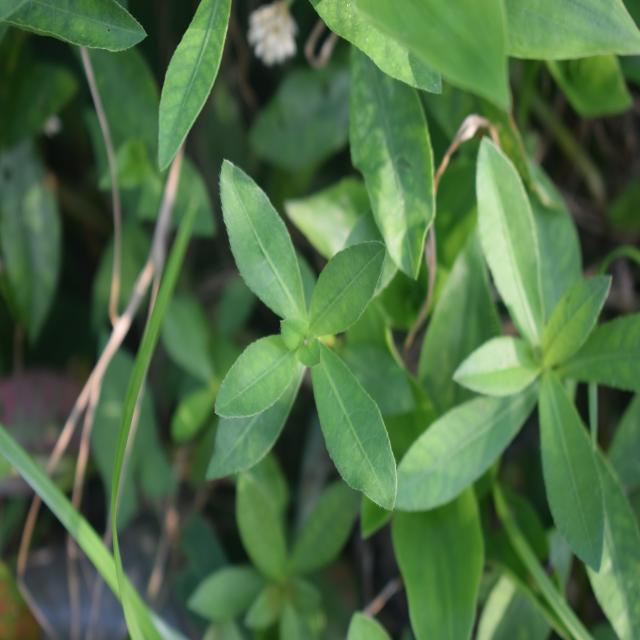Alligatorweed: (176, 142, 440, 526), (424, 139, 620, 568)
